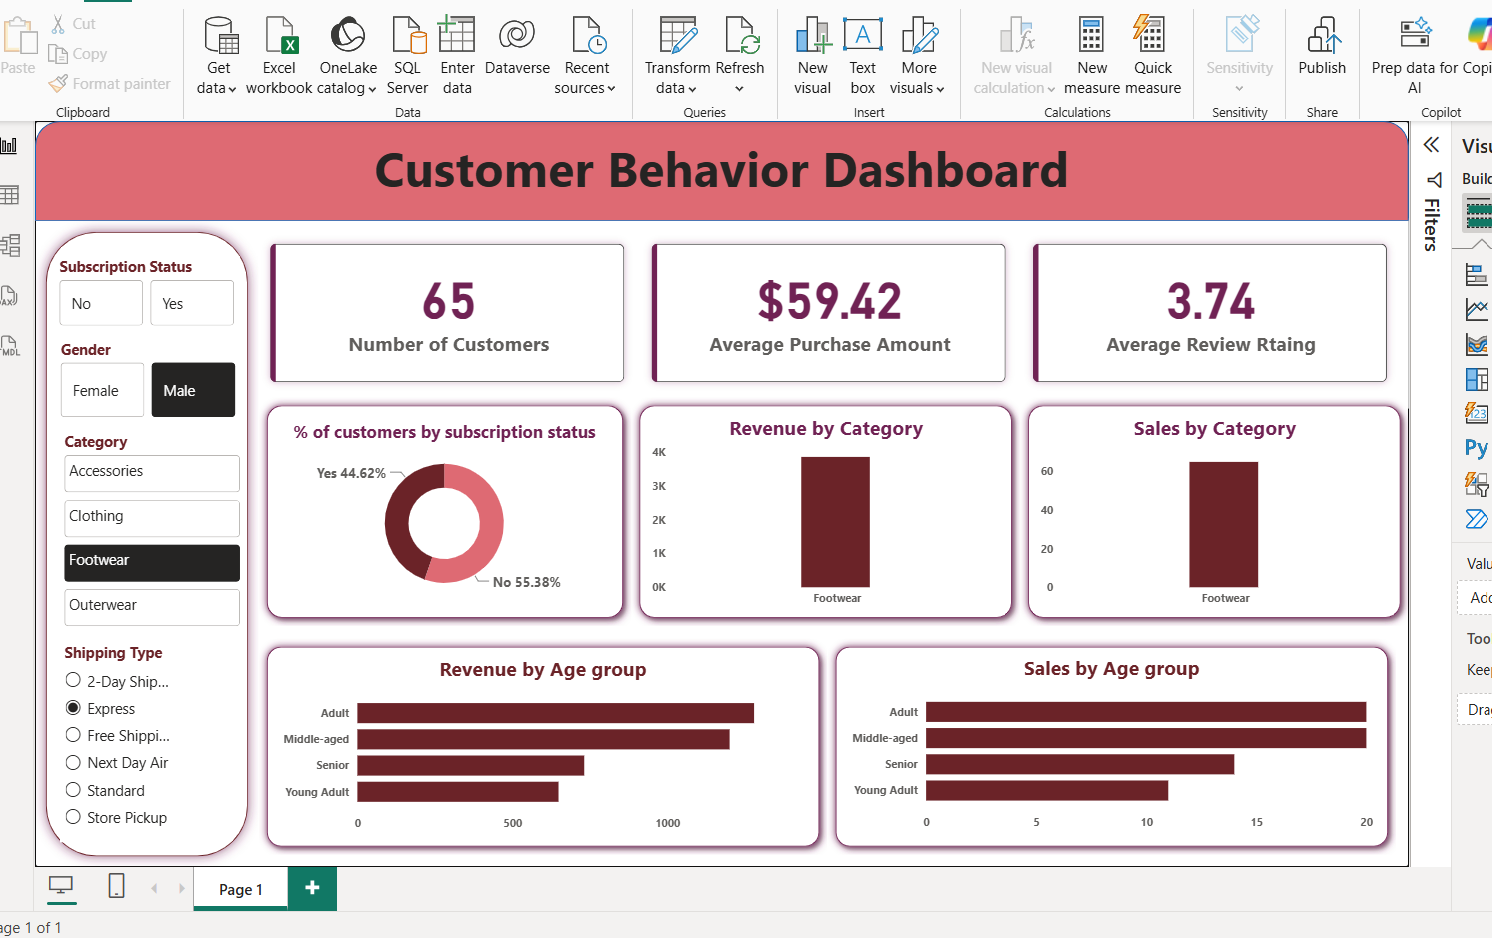

This screenshot's page, from the dashboard's own definition file:
{"tool":"powerbi","page":{"name":"Page 1","canvas":[1510,820],"ordinal":0},"visuals":[{"type":"cardVisual","fields":{"Data":["customer.Number of Customers","customer.Average Purchase Amount","customer.Average Review Rtaing"]},"box":[230.8,107.2,1279.2,208.8],"z":0},{"type":"shape","box":[0,0,1510,109.9],"z":1000},{"type":"textbox","box":[0,9.6,1510,138.8],"z":2000},{"type":"group","id":"g1","title":"Group 2","box":[655.4,303.7,427.3,251.4],"z":3000},{"type":"shape","box":[655.4,303.7,427.3,251.4],"z":3000,"group":"g1"},{"type":"shape","box":[1082.7,303.7,427.3,251.4],"z":3000,"group":"g3"},{"type":"shape","box":[245.9,569.2,625.2,237.7],"z":3000,"group":"g4"},{"type":"shape","box":[871.1,569.2,625.2,237.7],"z":3000,"group":"g5"},{"type":"group","id":"g2","title":"Group 1","box":[245.9,303.7,409.5,251.4],"z":4000},{"type":"shape","box":[245.9,303.7,409.5,251.4],"z":4000,"group":"g2"},{"type":"group","id":"g3","title":"Group 3","box":[1082.7,303.7,427.3,251.4],"z":5000},{"type":"clusteredColumnChart","title":"Revenue by Category","fields":{"Y":["Sum(customer.purchase_amount)"],"Category":["customer.category"]},"box":[673.3,321.6,393,221.2],"z":5000,"group":"g1"},{"type":"clusteredColumnChart","title":"Sales by Category","fields":{"Y":["CountNonNull(customer.customer_id)"],"Category":["customer.category"]},"box":[1100.6,321.6,393,221.2],"z":5000,"group":"g3"},{"type":"shape","box":[0,109.9,245.9,710.4],"z":6000},{"type":"donutChart","title":"% of customers by subscription status","fields":{"Category":["customer.subscription_status"],"Y":["CountNonNull(customer.customer_id)"]},"box":[258.3,328.4,383.3,203.4],"z":6001,"group":"g2"},{"type":"advancedSlicerVisual","title":"Subscription Status","fields":{"Values":["customer.subscription_status"]},"box":[22,148.4,203.4,82.4],"z":7000},{"type":"advancedSlicerVisual","title":"Gender","fields":{"Values":["customer.gender"]},"box":[23.4,239.1,203.4,92.1],"z":8000},{"type":"advancedSlicerVisual","title":"Category","fields":{"Values":["customer.category"]},"box":[27.5,340.8,203.4,221.2],"z":9000},{"type":"listSlicer","title":"Shipping Type","fields":{"Values":["customer.shipping_type"]},"box":[27.5,573,145.6,219.8],"z":10000},{"type":"group","id":"g4","title":"Group 2","box":[245.9,569.2,625.2,237.7],"z":11000},{"type":"clusteredBarChart","title":"Revenue by Age group","fields":{"Y":["Sum(customer.purchase_amount)"],"Category":["customer.age_group"]},"box":[266.6,586.7,584,203.4],"z":12000},{"type":"group","id":"g5","title":"Group 2","box":[871.1,569.2,625.2,237.7],"z":12001},{"type":"clusteredBarChart","title":"Sales by Age group","fields":{"Y":["CountNonNull(customer.customer_id)"],"Category":["customer.age_group"]},"box":[891.7,585.3,584,203.4],"z":12002}]}

Visuals, with their boxes on the page's 1510x820 design canvas (x1, y1, x2, y2). These are canvas units, not pixel positions in the 1492x938 screenshot, which may show the page scaled, cropped or inside an application window:
cardVisual - customer.Number of Customers x customer.Average Purchase Amount: x1=231, y1=107, x2=1510, y2=316
shape: x1=0, y1=0, x2=1510, y2=110
textbox: x1=0, y1=10, x2=1510, y2=148
"Group 2" group: x1=655, y1=304, x2=1083, y2=555
shape: x1=655, y1=304, x2=1083, y2=555
shape: x1=1083, y1=304, x2=1510, y2=555
shape: x1=246, y1=569, x2=871, y2=807
shape: x1=871, y1=569, x2=1496, y2=807
"Group 1" group: x1=246, y1=304, x2=655, y2=555
shape: x1=246, y1=304, x2=655, y2=555
"Group 3" group: x1=1083, y1=304, x2=1510, y2=555
"Revenue by Category" clusteredColumnChart: x1=673, y1=322, x2=1066, y2=543
"Sales by Category" clusteredColumnChart: x1=1101, y1=322, x2=1494, y2=543
shape: x1=0, y1=110, x2=246, y2=820
"% of customers by subscription status" donutChart: x1=258, y1=328, x2=642, y2=532
"Subscription Status" advancedSlicerVisual: x1=22, y1=148, x2=225, y2=231
"Gender" advancedSlicerVisual: x1=23, y1=239, x2=227, y2=331
"Category" advancedSlicerVisual: x1=28, y1=341, x2=231, y2=562
"Shipping Type" listSlicer: x1=28, y1=573, x2=173, y2=793
"Group 2" group: x1=246, y1=569, x2=871, y2=807
"Revenue by Age group" clusteredBarChart: x1=267, y1=587, x2=851, y2=790
"Group 2" group: x1=871, y1=569, x2=1496, y2=807
"Sales by Age group" clusteredBarChart: x1=892, y1=585, x2=1476, y2=789
